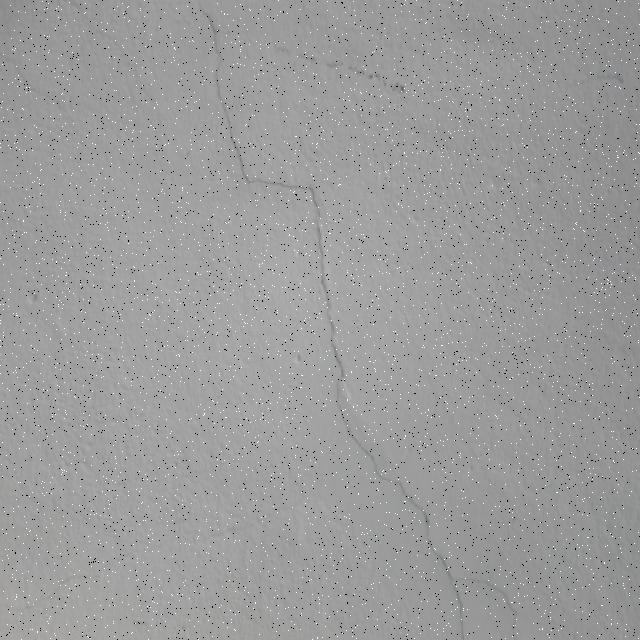moderate crack: (307, 196, 337, 300), (470, 574, 523, 630), (330, 63, 399, 90)
severe crack: (204, 8, 476, 631), (7, 7, 232, 627), (196, 5, 292, 192), (332, 380, 402, 499), (319, 252, 362, 428), (422, 532, 463, 619), (249, 177, 310, 192), (231, 146, 248, 180)
